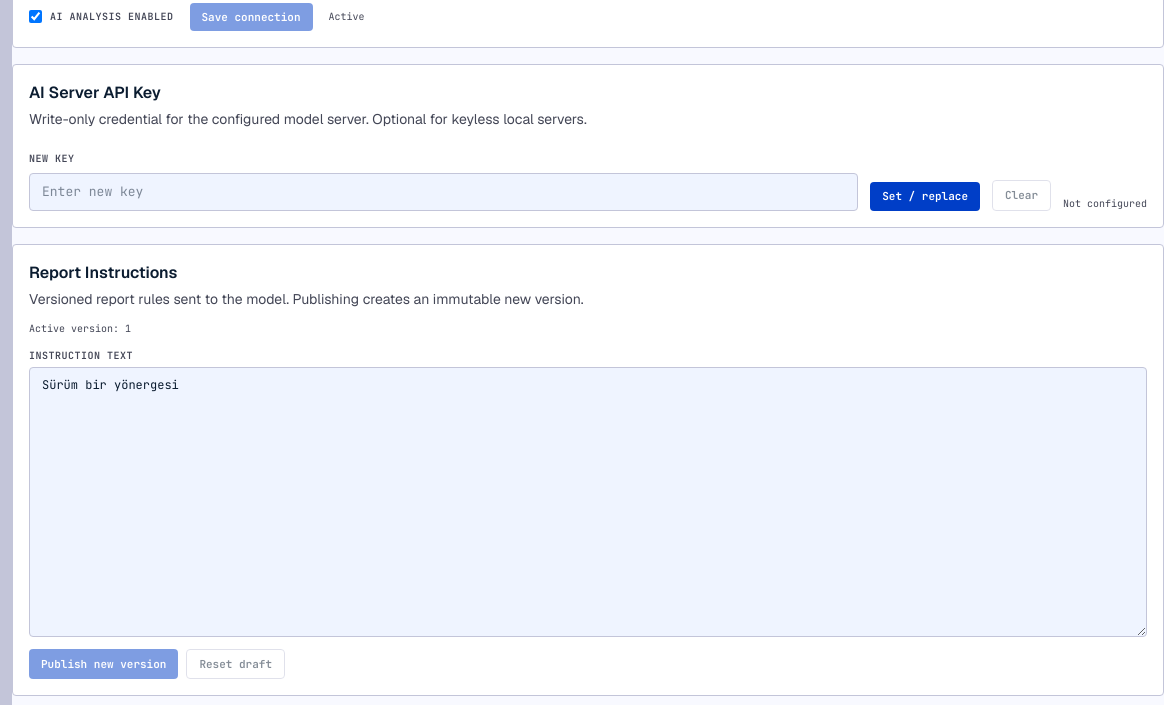
Test: Admin AI settings section › shows a conflict and retains the draft when another admin published first
(page scrolled)
Step 1. Replace the text in the text box labelled "Instruction text" with "Çakışan taslak" → [588, 502], box [29,366,1147,636]
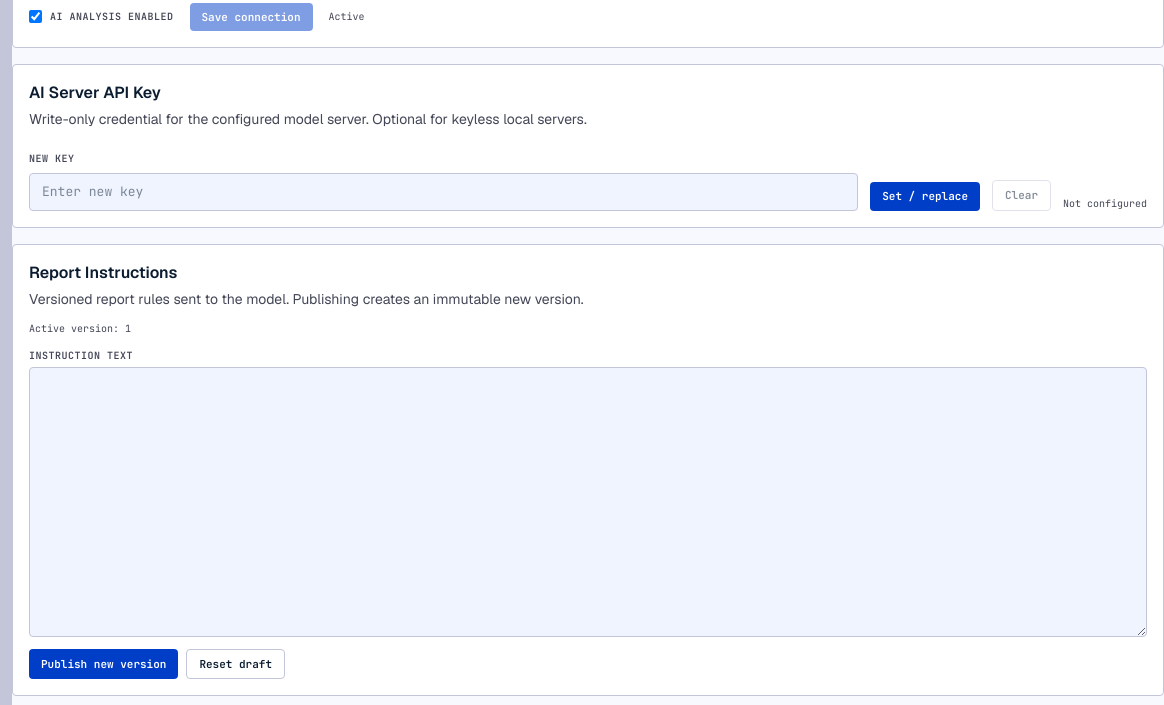
Step 2. Click the button "Publish new version" → [104, 664], box [29,648,178,679]
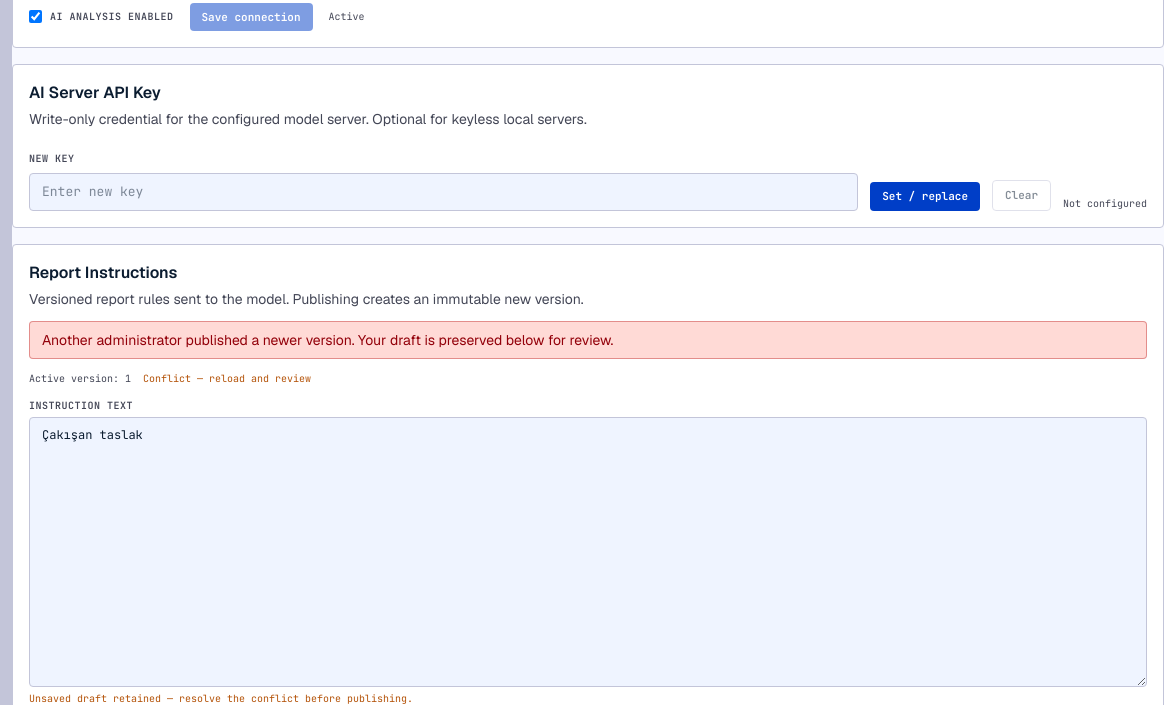
Expected: the 2nd message shows "newer version", [42,330,613,348]
